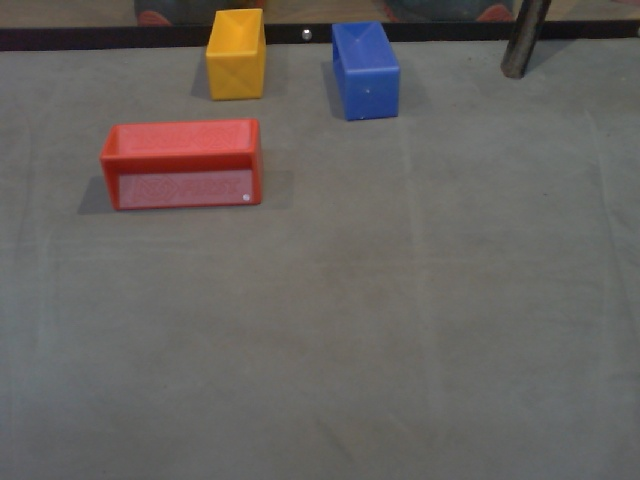BlueSample: (327, 16, 400, 124)
RedSample: (96, 114, 267, 216)
YellowSample: (206, 6, 266, 105)
